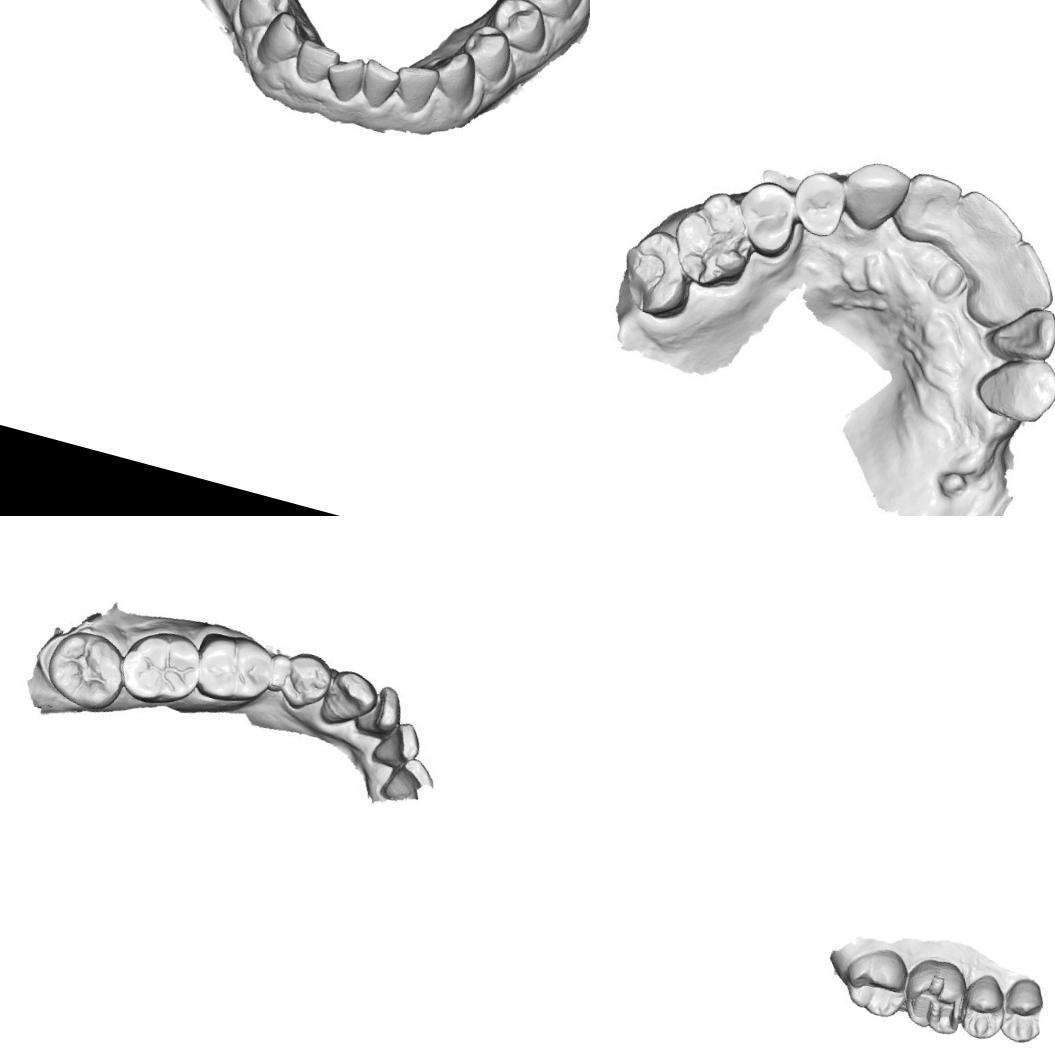canine: (969, 347, 1055, 434), (841, 158, 911, 232), (250, 2, 316, 72), (428, 43, 486, 112), (321, 670, 376, 734)
incisor: (967, 235, 1055, 330), (938, 188, 1031, 276), (985, 298, 1055, 369), (372, 748, 440, 817), (897, 171, 962, 242), (366, 714, 424, 776), (316, 45, 371, 109), (288, 32, 344, 92), (351, 55, 404, 116), (356, 680, 405, 741), (388, 58, 440, 115)
inlay: (902, 966, 966, 1036)
molar: (670, 188, 758, 286), (47, 626, 137, 709), (113, 622, 201, 705), (190, 626, 276, 709), (834, 938, 916, 1024), (617, 224, 696, 312), (504, 0, 590, 23)
premolar: (730, 176, 802, 261), (950, 966, 1016, 1046), (788, 161, 854, 239), (456, 18, 521, 88), (994, 972, 1052, 1048), (273, 645, 334, 716), (484, 0, 554, 58), (231, 0, 296, 40)
